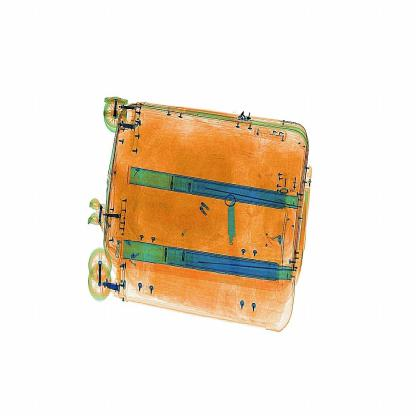wrench: (217, 185, 244, 284)
